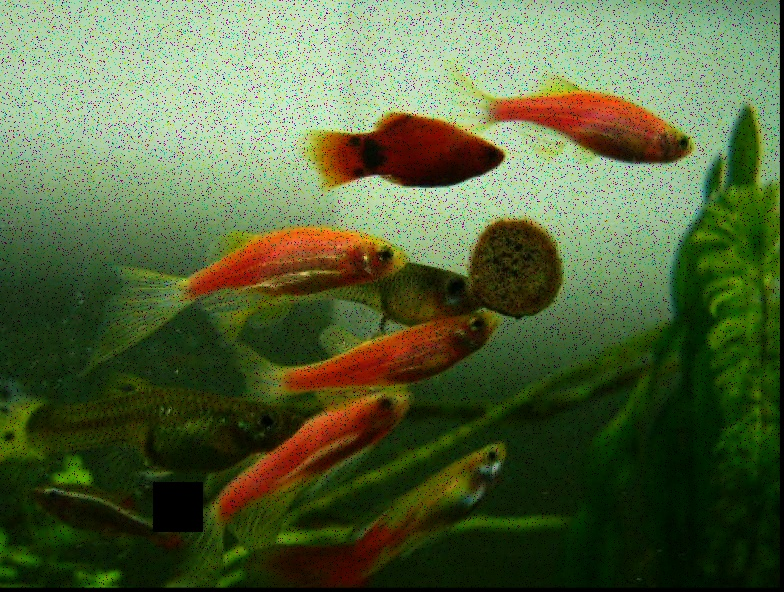fry: (116, 214, 408, 307), (60, 375, 302, 465), (290, 101, 515, 196), (517, 71, 709, 172), (269, 380, 426, 487), (317, 304, 513, 385), (387, 437, 513, 542), (21, 480, 156, 548), (390, 247, 483, 320)
